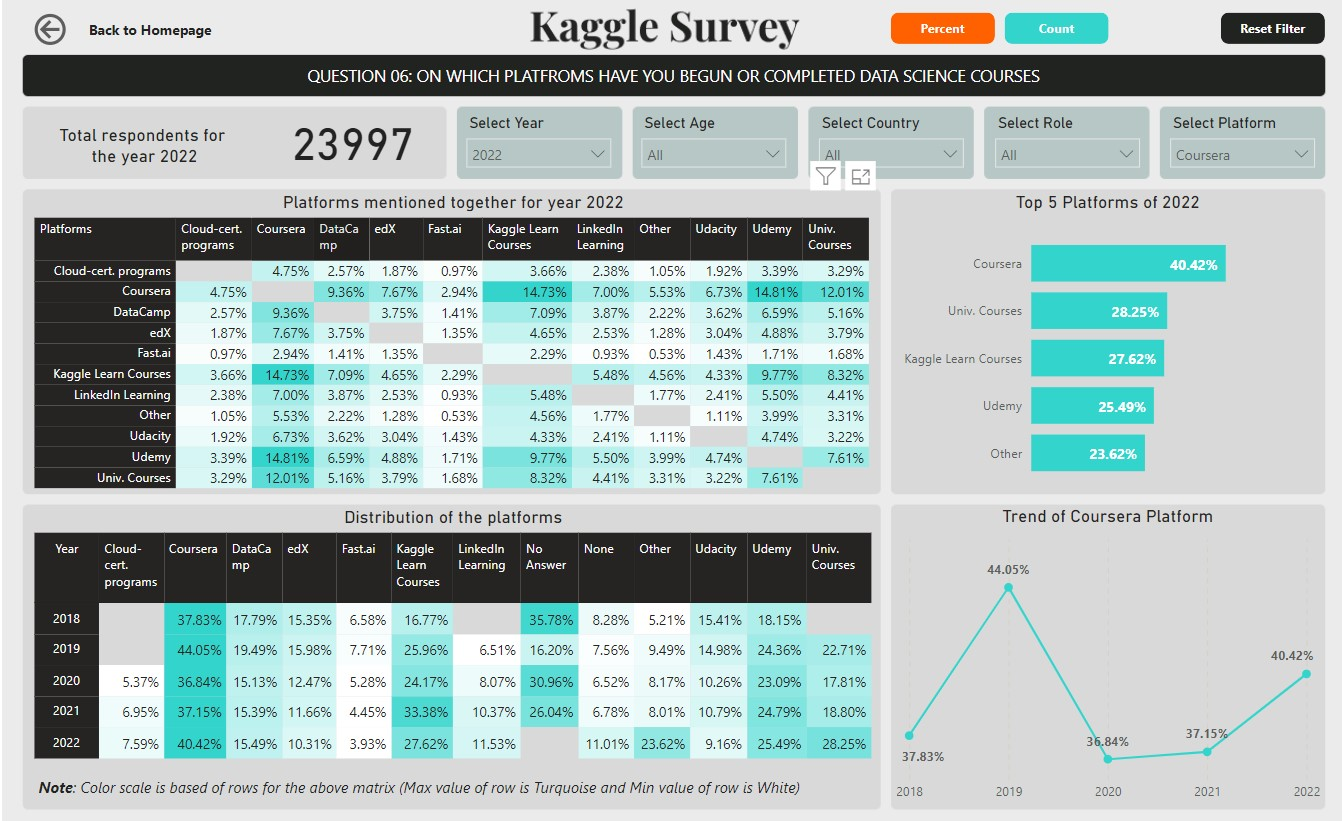

Layout of this report page (visuals, bound fields, positions):
{"tool":"powerbi","page":{"name":"Q6","canvas":[1300,800],"ordinal":1},"visuals":[{"type":"slicer","fields":{"Values":["Fact_respondent.Year"]},"box":[439,105,160,65],"z":0},{"type":"slicer","fields":{"Values":["Fact_respondent.age"]},"box":[608.8,105,160,65],"z":1000},{"type":"slicer","fields":{"Values":["Fact_respondent.role"]},"box":[950,105,160,65],"z":2000},{"type":"slicer","fields":{"Values":["Fact_respondent.country"]},"box":[780,105,160,65],"z":3000},{"type":"pivotTable","title":"Distribution of the platforms","fields":{"Rows":["Fact_respondent.Year"],"Columns":["Dim_Q6.answer"],"Values":["BaseMeasures.% Q6_Year"]},"box":[26.4,489.3,819.8,256.5],"z":4000},{"type":"pivotTable","title":"Platforms mentioned together for year 2022","fields":{"Rows":["Dim_Q6.answer"],"Values":["BaseMeasures.Percent Occur"],"Columns":["CompareQ6.answer"]},"box":[26.2,185,820,295],"z":5000},{"type":"barChart","fields":{"Category":["Dim_Q6.answer"],"Y":["BaseMeasures.% Q6_Year"]},"box":[860,185,420,295],"z":6000},{"type":"lineChart","fields":{"Category":["Fact_respondent.Year"],"Series":["Dim_Q6.answer"],"Y":["BaseMeasures.% Q6_Year"]},"box":[860,488.8,420,295],"z":7000},{"type":"slicer","fields":{"Values":["Dim_Q6.answer"]},"box":[1120,105,160,65],"z":8000},{"type":"textbox","box":[117.8,56.9,1064.5,33.1],"z":9000},{"type":"card","fields":{"Values":["BaseMeasures.Count Year"]},"box":[248.8,100,180,70],"z":10000},{"type":"card","fields":{"Values":["BaseMeasures.Ban title"]},"box":[26.2,105,222.5,70],"z":11000},{"type":"textbox","box":[30.4,745.8,815.9,38.3],"z":12000},{"type":"actionButton","box":[1179.5,11.9,100.5,30.4],"z":13000},{"type":"actionButton","box":[859.5,11.9,100.5,30.4],"z":14000},{"type":"actionButton","box":[969.3,11.9,100.5,30.4],"z":15000},{"type":"actionButton","box":[26.4,7.9,180,39.7],"z":18001}]}

Visuals, with their boxes in screenshot pixels (x1, y1, x2, y2), scaled from the page's 1300x800 canvas onto the 1342x821 screenshot:
slicer - Fact_respondent.Year: crop(453, 108, 618, 174)
slicer - Fact_respondent.age: crop(628, 108, 794, 174)
slicer - Fact_respondent.role: crop(981, 108, 1146, 174)
slicer - Fact_respondent.country: crop(805, 108, 970, 174)
"Distribution of the platforms" pivotTable: crop(27, 502, 874, 765)
"Platforms mentioned together for year 2022" pivotTable: crop(27, 190, 874, 493)
barChart - Dim_Q6.answer x BaseMeasures.% Q6_Year: crop(888, 190, 1321, 493)
lineChart - Fact_respondent.Year x Dim_Q6.answer: crop(888, 502, 1321, 804)
slicer - Dim_Q6.answer: crop(1156, 108, 1321, 174)
textbox: crop(122, 58, 1220, 92)
card - BaseMeasures.Count Year: crop(257, 103, 443, 174)
card - BaseMeasures.Ban title: crop(27, 108, 257, 180)
textbox: crop(31, 765, 874, 805)
actionButton: crop(1218, 12, 1321, 43)
actionButton: crop(887, 12, 991, 43)
actionButton: crop(1001, 12, 1104, 43)
actionButton: crop(27, 8, 213, 49)
